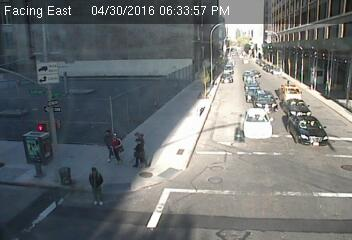neg: (33, 42, 56, 73), (28, 109, 50, 138), (134, 36, 154, 63), (298, 132, 318, 158), (300, 43, 318, 67), (197, 56, 214, 80), (258, 119, 275, 142), (181, 143, 197, 165), (240, 162, 254, 181), (240, 68, 253, 86), (81, 32, 94, 49), (198, 99, 210, 115)
pos: (76, 161, 111, 208), (122, 127, 154, 168), (92, 124, 118, 159), (104, 131, 126, 160)
